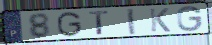8: (27, 12, 52, 39)
G: (176, 5, 204, 32), (57, 11, 84, 38)
I: (125, 7, 137, 36)
K: (148, 7, 172, 33)
T: (88, 10, 111, 36)
